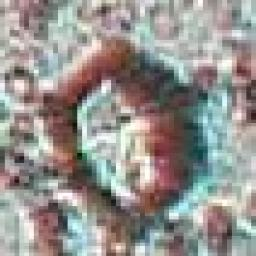crystals: (47, 57, 209, 237)
